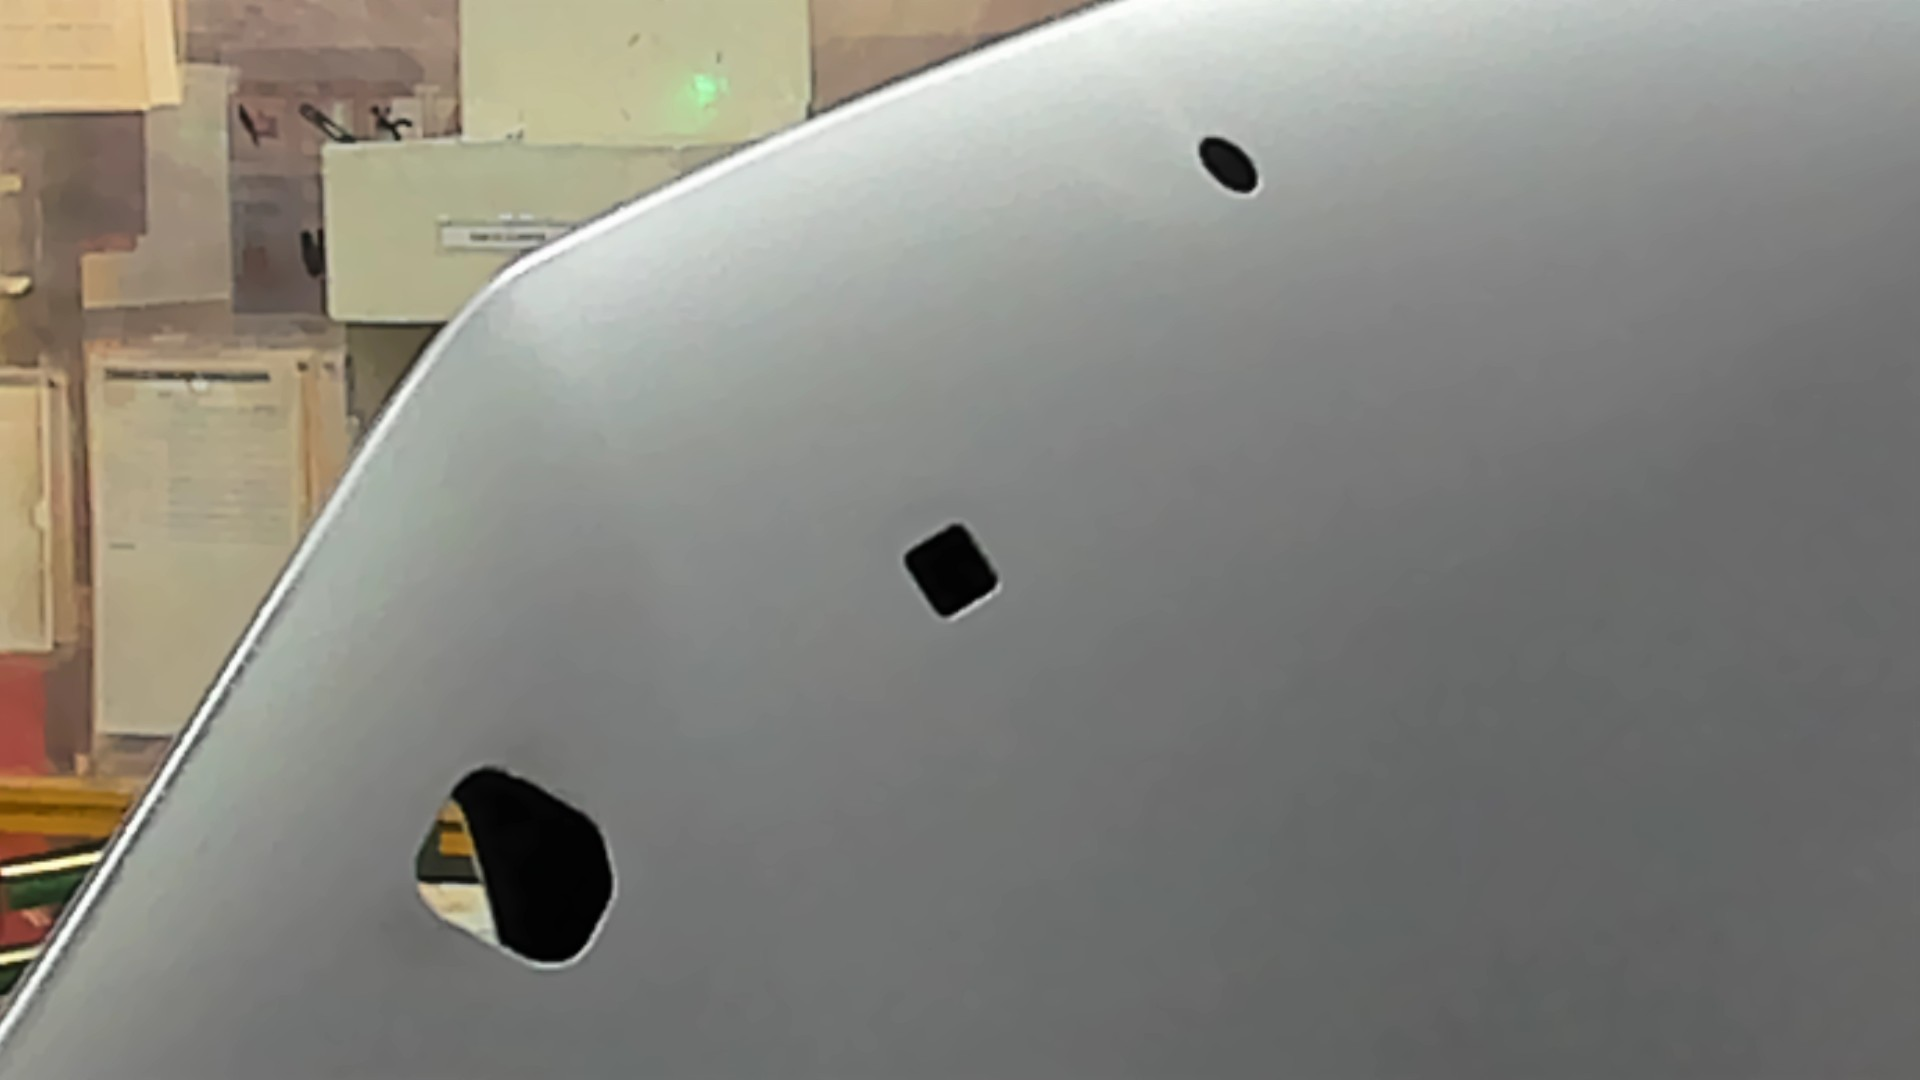chico: (1188, 127, 1274, 210)
grande: (382, 752, 632, 978)
mediano: (889, 520, 1023, 626)
